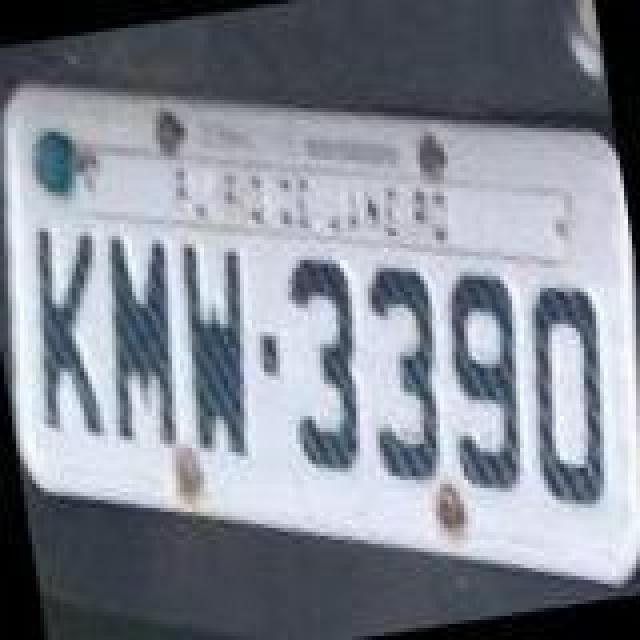3: (348, 260, 460, 492), (270, 250, 378, 478)
9: (430, 262, 546, 498)
K: (12, 220, 124, 444)
M: (88, 226, 200, 454)
O: (510, 272, 626, 512)
W: (162, 234, 270, 462)
